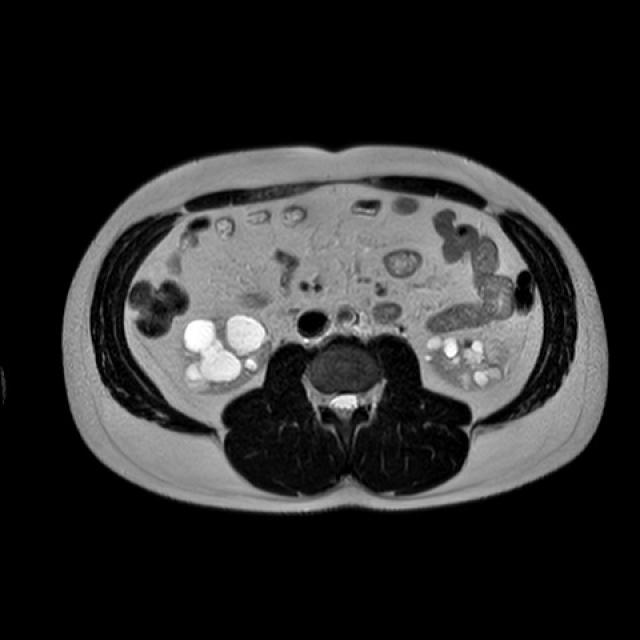sag: (183, 314, 271, 396)
sol: (427, 334, 509, 388)
